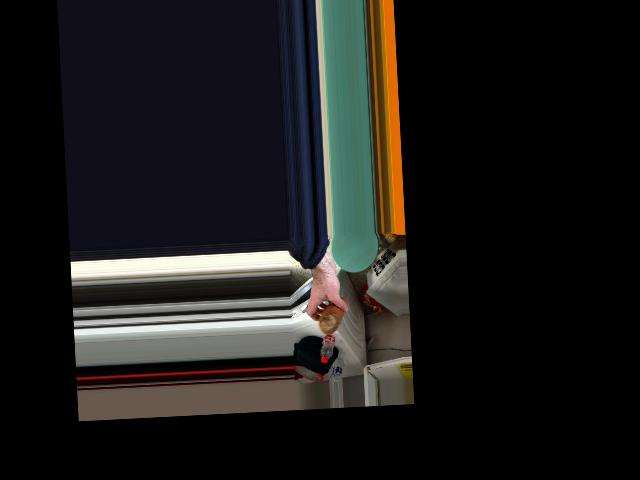sweet_potato: (315, 292, 350, 332)
